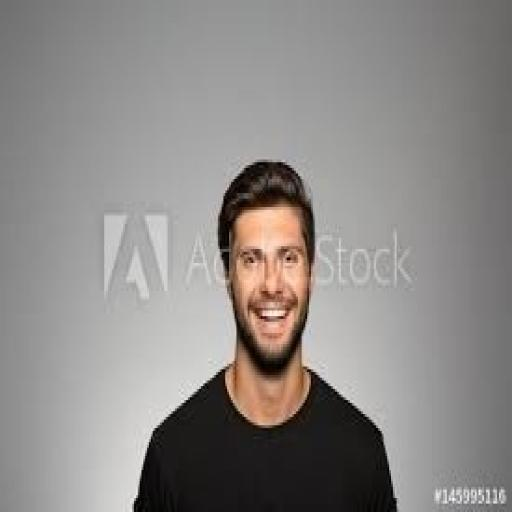laughing: (127, 151, 402, 509)
